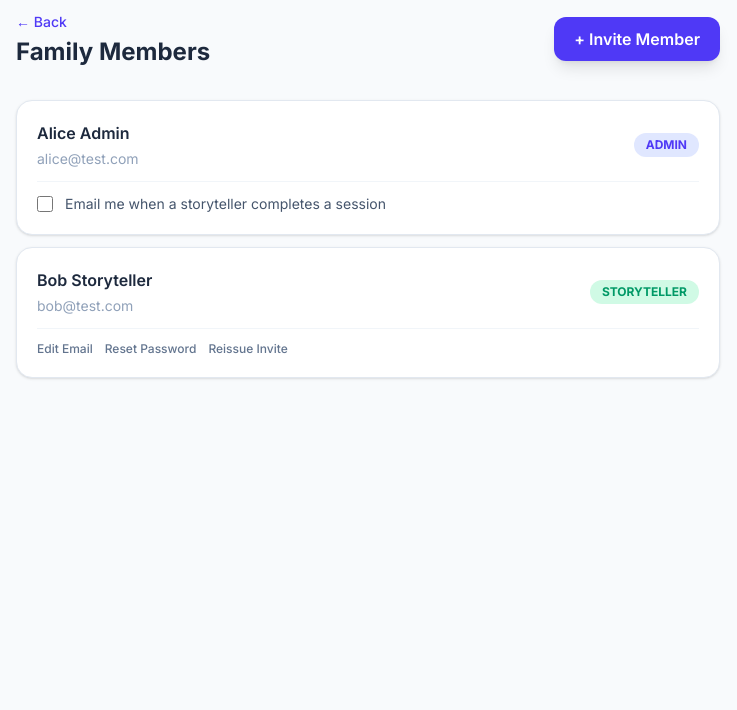
Scenario: MemberManagement — member list › shows invite form when button clicked
Click the button "+ Invite Member" at {"x": 637, "y": 38}, box [554,16,720,60]
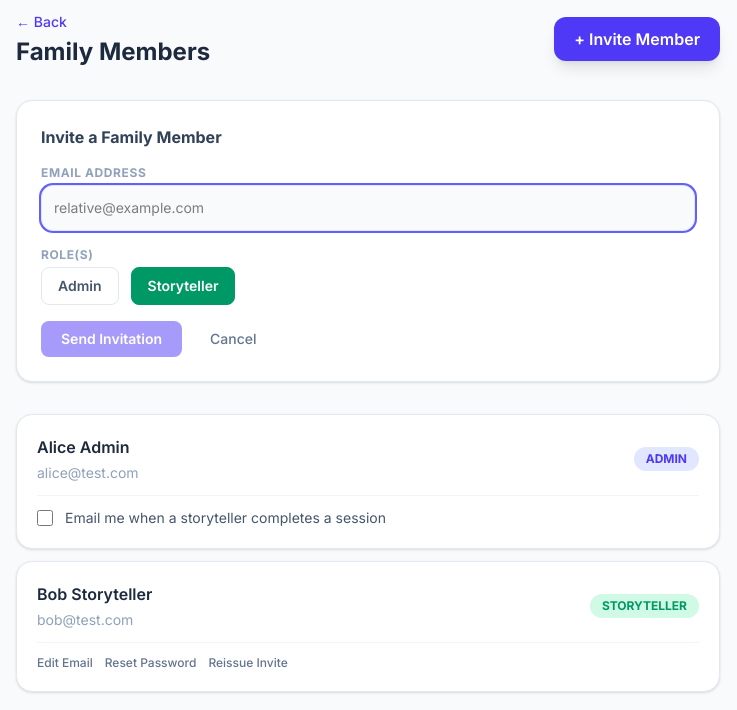
Result: the heading "Invite a Family Member" is shown at [41,127,222,147]
